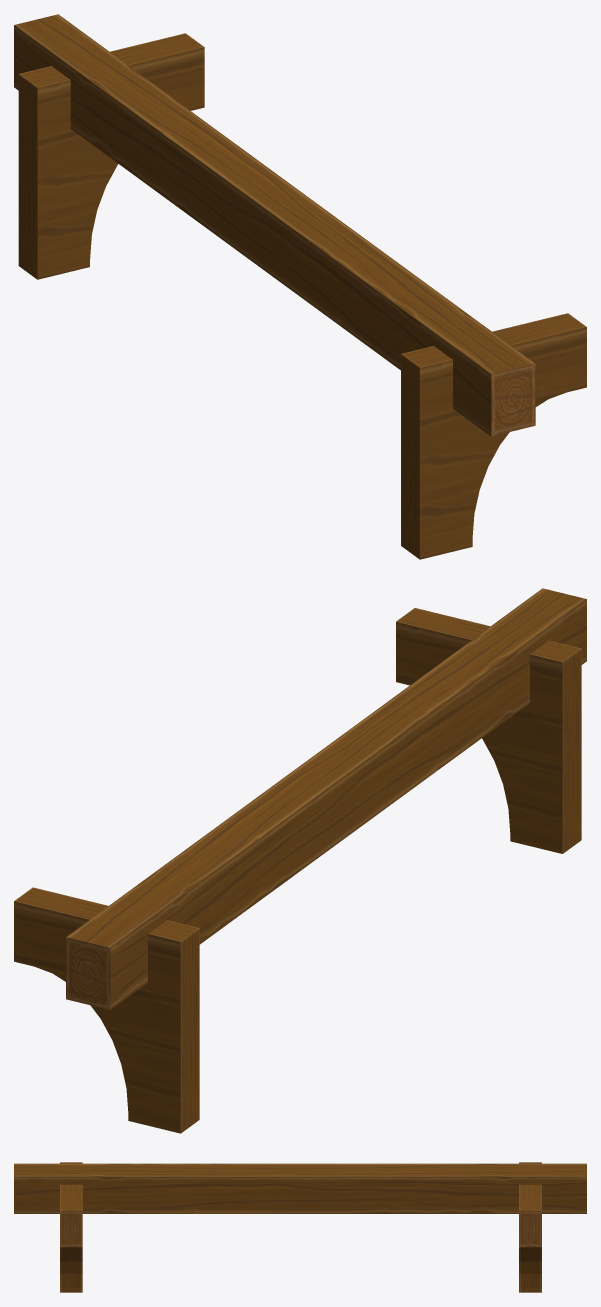
File: SM_Balcony_01_Support_Extension.fbx
The picture shows the model from 3 angles, top to bottom: view 1: azimuth 30°, elevation 25°; view 2: azimuth 150°, elevation 25°; view 3: azimuth 270°, elevation 25°; orthographic projection. The views are drawn at different scales.
Visible parts, largest first — view 1: SM_Balcony_01_Support_Extension; view 2: SM_Balcony_01_Support_Extension; view 3: SM_Balcony_01_Support_Extension.
Boxes of the visible parts, box(x1,y1,x2,y2) form: SM_Balcony_01_Support_Extension: box(14, 14, 586, 559); SM_Balcony_01_Support_Extension: box(14, 588, 586, 1133); SM_Balcony_01_Support_Extension: box(14, 1162, 586, 1292).
Bounding box in the file's own units: 0.9581 × 1.13 × 4.74.
